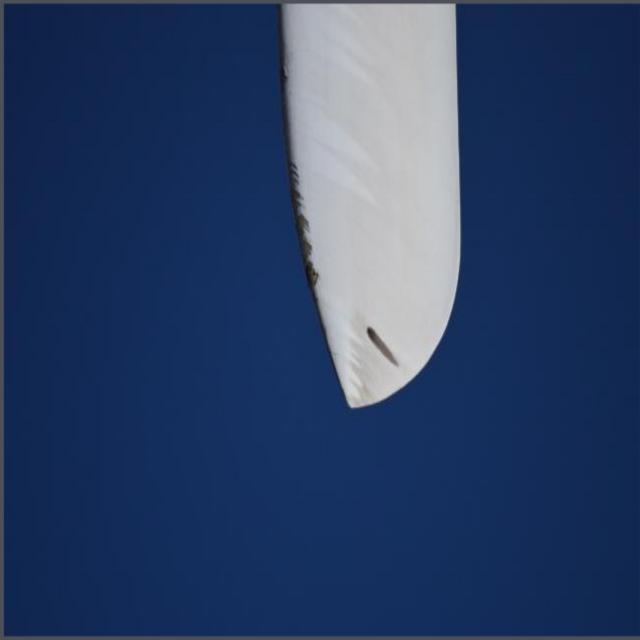Burn Mark: (367, 323, 399, 372)
EROSION: (266, 59, 328, 304)
